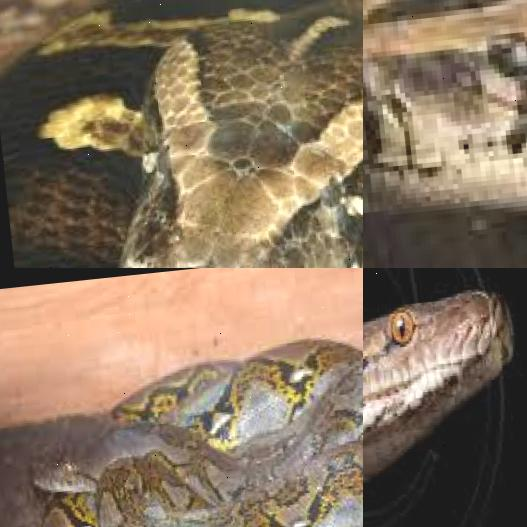snake: (0, 0, 363, 268), (15, 335, 363, 527), (363, 0, 527, 262), (363, 272, 527, 527)
